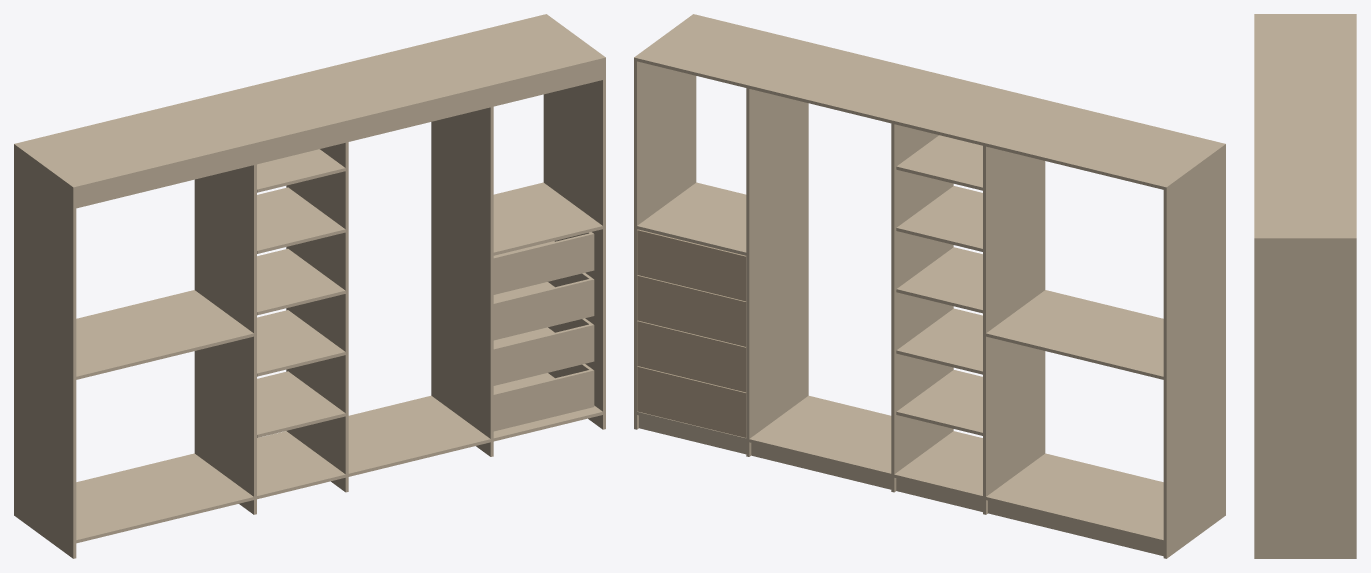
File: meuble-3m-x-2m.dae
The picture shows the model from 3 angles, left to right: view 1: azimuth 30°, elevation 25°; view 2: azimuth 150°, elevation 25°; view 3: azimuth 270°, elevation 25°; orthographic projection. The views are drawn at different scales.
Visible parts, largest first — view 1: Fond - Montant (×5), Fond B - Étagère mobile (×5), Fond D - Avant / arrière de tiroir (×4), Fond A - Dessus, Fond A - Tablette mi-hauteur (fixe), Fond A - Fond bas (tablette fixe), Fond C - Dessus, Fond C - Fond bas (tablette fixe), Fond D - Dessus, Fond B - Dessus, Fond D - Tablette au-dessus des tiroirs (fixe), Fond B - Fond bas (tablette fixe) (+6 smaller); view 2: Fond - Montant (×5), Fond D - Façade tiroir (×4), Fond B - Étagère mobile (×5), Fond A - Dessus, Fond A - Tablette mi-hauteur (fixe), Fond A - Fond bas (tablette fixe), Fond C - Dessus, Fond C - Fond bas (tablette fixe), Fond D - Dessus, Fond B - Dessus, Fond D - Tablette au-dessus des tiroirs (fixe), Fond B - Fond bas (tablette fixe) (+4 smaller); view 3: Fond - Montant (×5), Fond A - Dessus, Fond C - Dessus, Fond D - Dessus, Fond B - Dessus.
Part boxes in pixels (x1,y1,x2,y2): Fond - Montant (×5): [14, 14, 605, 558]; Fond B - Étagère mobile (×5): [257, 149, 345, 437]; Fond D - Avant / arrière de tiroir (×4): [493, 233, 591, 428]; Fond A - Dessus: [17, 100, 253, 189]; Fond A - Tablette mi-hauteur (fixe): [76, 290, 253, 379]; Fond A - Fond bas (tablette fixe): [76, 453, 253, 543]; Fond C - Dessus: [289, 42, 490, 123]; Fond C - Fond bas (tablette fixe): [348, 395, 490, 476]; Fond D - Dessus: [435, 14, 602, 87]; Fond B - Dessus: [198, 77, 345, 145]; Fond D - Tablette au-dessus des tiroirs (fixe): [493, 182, 602, 255]; Fond B - Fond bas (tablette fixe): [257, 431, 345, 499]; Fond - Montant (×5): [634, 14, 1225, 558]; Fond D - Façade tiroir (×4): [637, 229, 746, 437]; Fond B - Étagère mobile (×5): [896, 135, 982, 435]; Fond A - Dessus: [986, 100, 1222, 189]; Fond A - Tablette mi-hauteur (fixe): [986, 290, 1163, 379]; Fond A - Fond bas (tablette fixe): [986, 453, 1163, 543]; Fond C - Dessus: [749, 42, 950, 123]; Fond C - Fond bas (tablette fixe): [749, 395, 891, 476]; Fond D - Dessus: [637, 14, 804, 87]; Fond B - Dessus: [894, 77, 1041, 145]; Fond D - Tablette au-dessus des tiroirs (fixe): [637, 182, 746, 255]; Fond B - Fond bas (tablette fixe): [894, 431, 982, 499]; Fond - Montant (×5): [1254, 14, 1356, 558]; Fond A - Dessus: [1254, 15, 1356, 89]; Fond C - Dessus: [1254, 130, 1356, 189]; Fond D - Dessus: [1254, 191, 1356, 236]; Fond B - Dessus: [1254, 91, 1356, 128].
Size of the model in its own units: 3 by 0.58 by 2.
